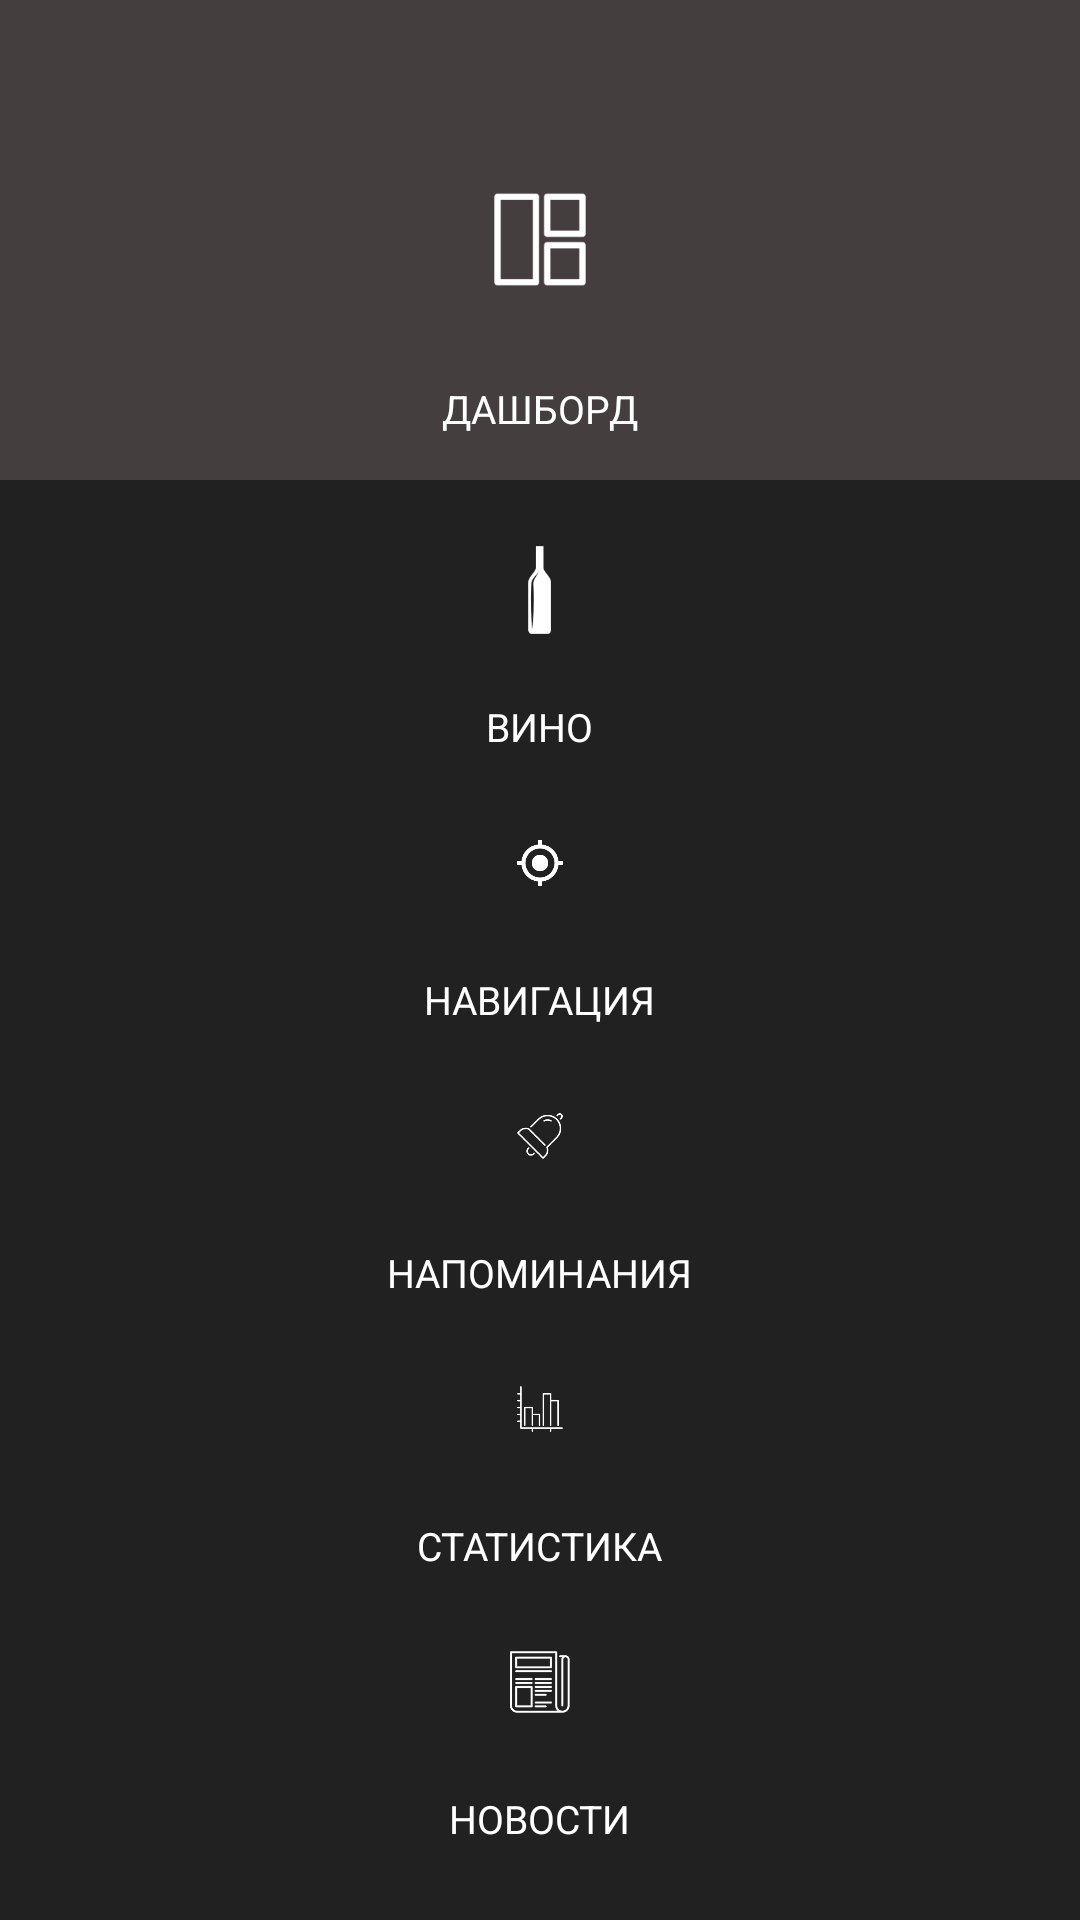

Icons on this 1080w x 1920h Android screen, each with its box as (x1, y1, x2, y2):
bell: (517, 1113, 563, 1159)
dashboard: (494, 193, 586, 286)
news: (510, 1651, 570, 1713)
statistics: (517, 1386, 563, 1432)
target: (517, 840, 563, 886)
wine: (528, 546, 551, 634)
